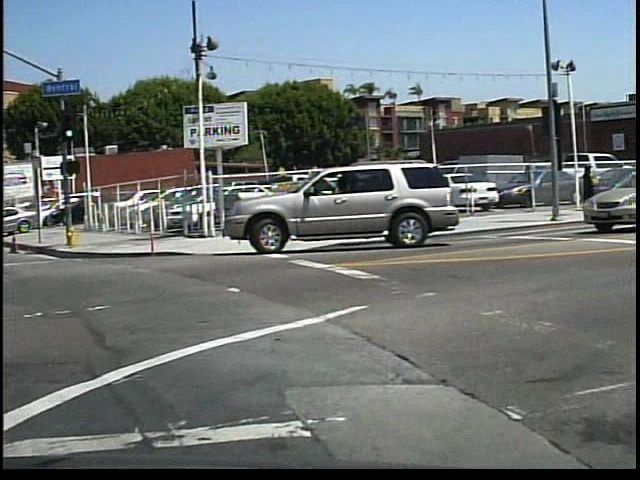person: (580, 163, 601, 214)
